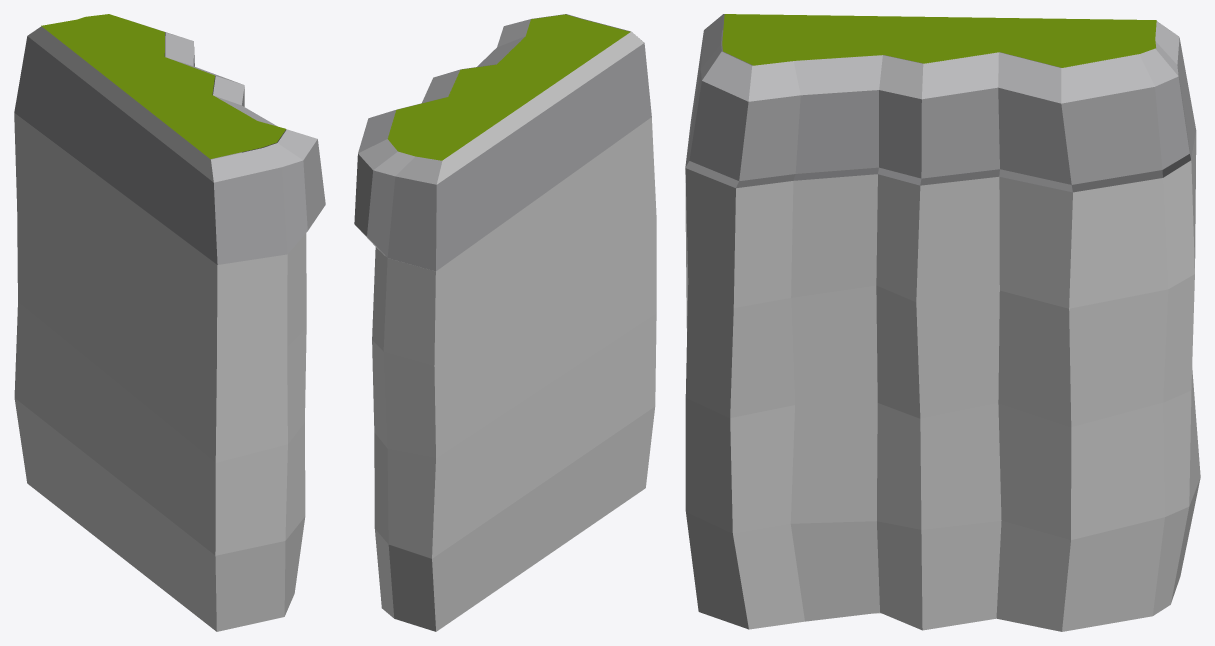
Rendered from Cliff2FlatShaded.fbx.
3 views of the same model, side by side, from view 1: azimuth 30°, elevation 25°; view 2: azimuth 150°, elevation 25°; view 3: azimuth 270°, elevation 25° (orthographic). The views are drawn at different scales.
Parts seen in each view (by area): view 1: Plane.004, Plane.002, Plane.001; view 2: Plane.004, Plane.002, Plane.001; view 3: Plane.004, Plane.002, Plane.001.
Boxes of the visible parts, x1=… form: Plane.004: x1=14, y1=113, x2=306, y2=631; Plane.002: x1=14, y1=19, x2=325, y2=264; Plane.001: x1=41, y1=14, x2=285, y2=158; Plane.004: x1=372, y1=117, x2=656, y2=631; Plane.002: x1=354, y1=14, x2=651, y2=271; Plane.001: x1=387, y1=14, x2=630, y2=160; Plane.004: x1=685, y1=131, x2=1200, y2=631; Plane.002: x1=685, y1=14, x2=1196, y2=192; Plane.001: x1=722, y1=14, x2=1156, y2=67.
Size of the model in its own units: 584 by 1933 by 1598.
